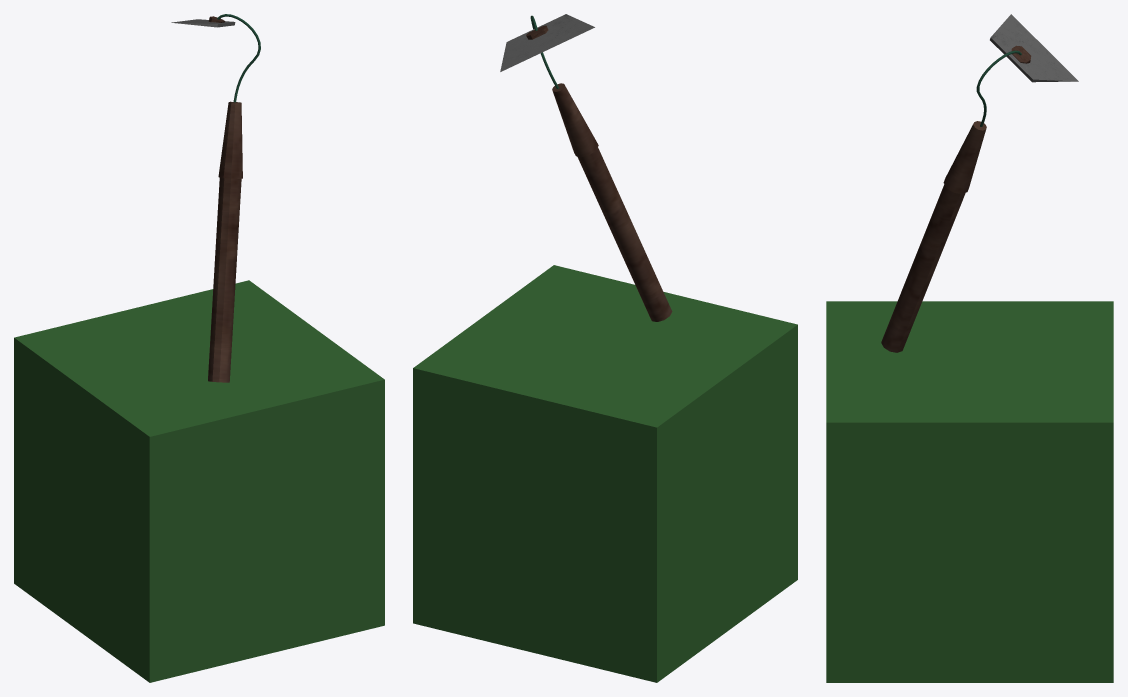
The model's file is motyka.obj.
3 views of the same model, side by side, from view 1: azimuth 30°, elevation 25°; view 2: azimuth 150°, elevation 25°; view 3: azimuth 270°, elevation 25° (orthographic). The views are drawn at different scales.
Visible parts, largest first — view 1: Box001.061, Cylinder.020; view 2: Box001.061, Cylinder.020, Cube; view 3: Box001.061, Cylinder.020, Cube.
Part boxes in pixels (box(x1,y1,x2,y2)): Box001.061: box(14, 280, 384, 682); Cylinder.020: box(208, 101, 242, 382); Box001.061: box(413, 265, 797, 682); Cylinder.020: box(552, 83, 672, 321); Cube: box(500, 14, 594, 71); Box001.061: box(826, 301, 1113, 682); Cylinder.020: box(881, 121, 986, 352); Cube: box(990, 14, 1078, 82).
Size of the model in its own units: 0.254 by 0.5886 by 0.254.
Materials: 5 (5 with a texture image).
